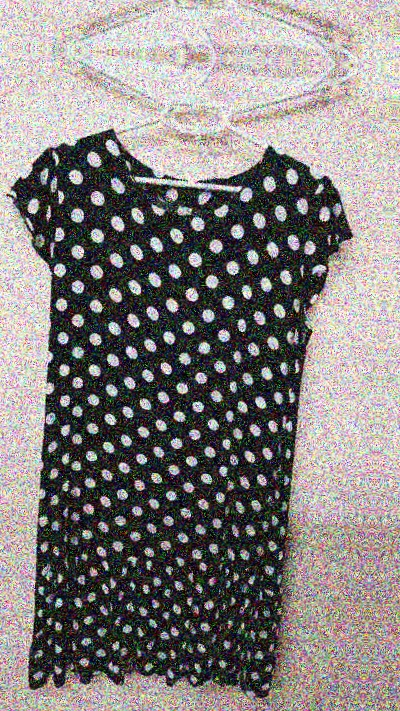Dress: (0, 100, 350, 711), (2, 0, 388, 11)
